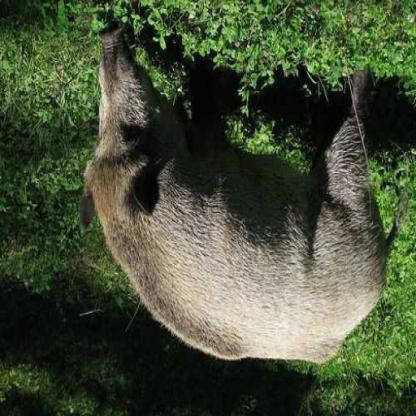boar: (96, 26, 392, 386)
